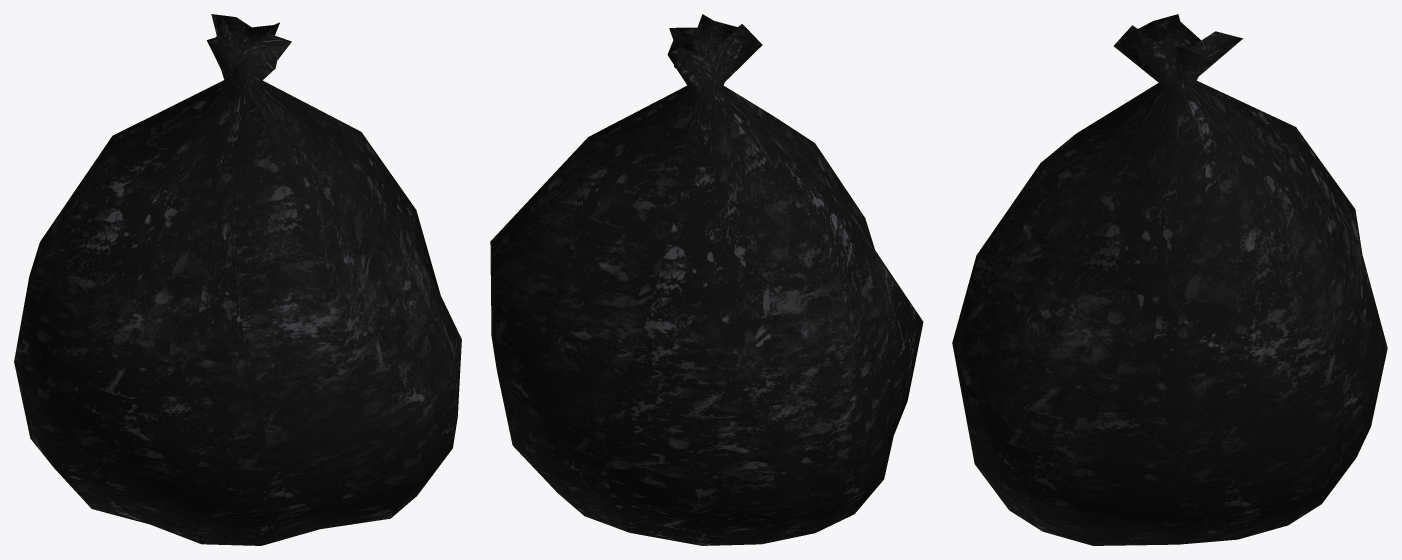
File: Trash Bag.FBX
3 views of the same model, side by side, from view 1: azimuth 30°, elevation 25°; view 2: azimuth 150°, elevation 25°; view 3: azimuth 270°, elevation 25° (orthographic).
Visible parts, largest first — view 1: Sphere001; view 2: Sphere001; view 3: Sphere001.
Part boxes in pixels (x1,y1,x2,y2): Sphere001: (14, 14, 461, 545); Sphere001: (490, 14, 923, 545); Sphere001: (952, 14, 1387, 545).
Size of the model in its own units: 30.66 by 35.27 by 29.91.
1 material, 1 textured.
